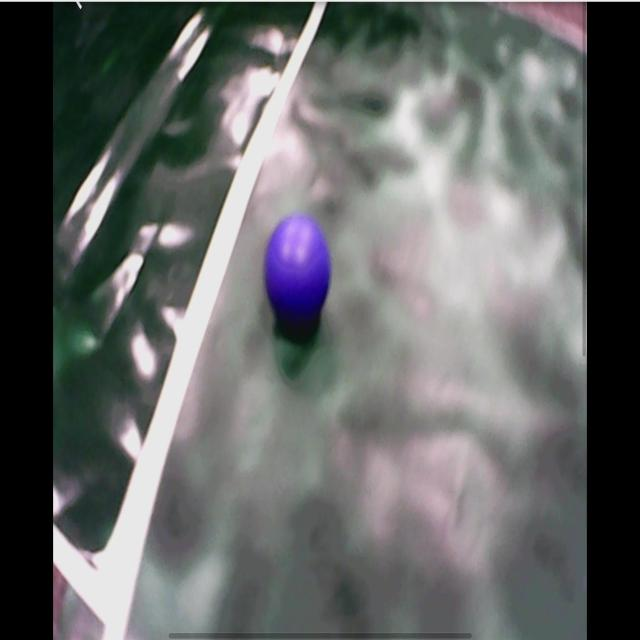ball: (265, 217, 334, 313)
